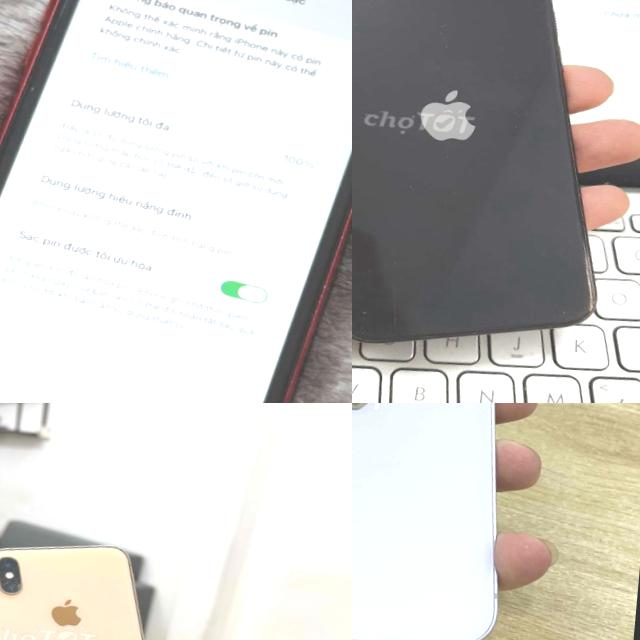gen_11: (0, 0, 352, 403)
gen_14: (352, 403, 544, 640)
gen_x_xs: (0, 533, 186, 640)
